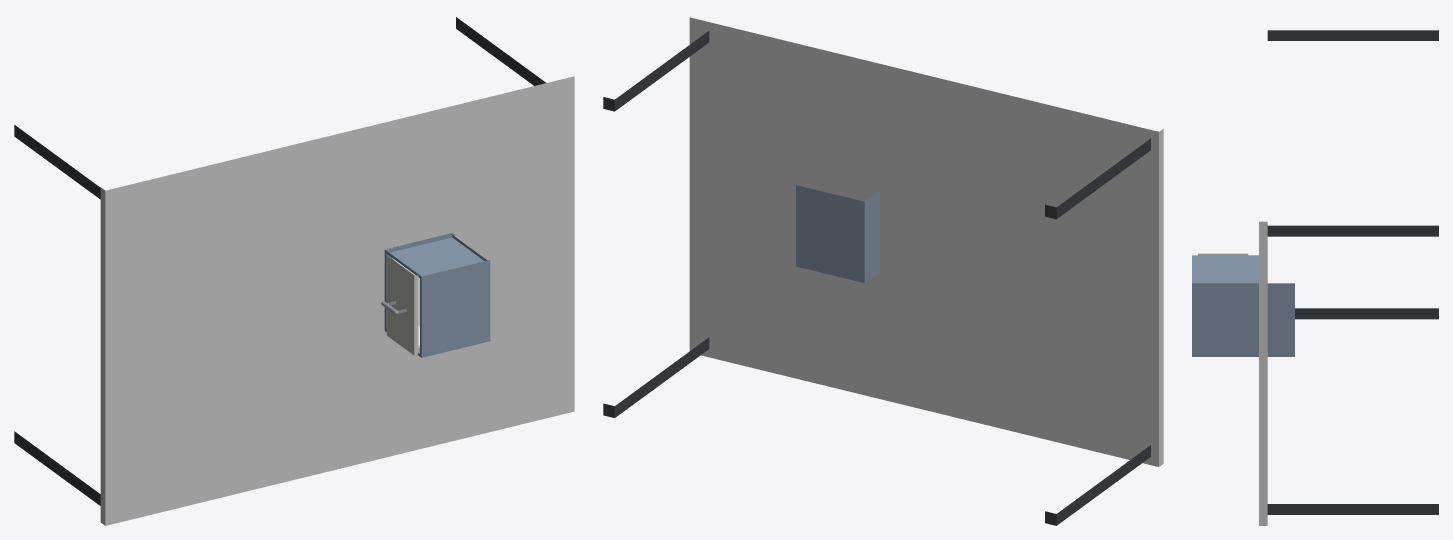
The picture shows the model from 3 angles, left to right: view 1: azimuth 30°, elevation 25°; view 2: azimuth 150°, elevation 25°; view 3: azimuth 270°, elevation 25°; orthographic projection. The views are drawn at different scales.
Parts seen in each view (by area): view 1: s0, s1, s2; view 2: s0, s1; view 3: s0, s1.
Boxes of the visible parts, <box> form: s0: <box>14,17,574,525</box>; s1: <box>384,233,490,357</box>; s2: <box>381,256,419,355</box>; s0: <box>603,17,1163,525</box>; s1: <box>796,185,879,282</box>; s0: <box>1259,30,1438,525</box>; s1: <box>1192,255,1294,356</box>.
Size of the model in its own units: 2.05 by 1.4 by 1.03.
